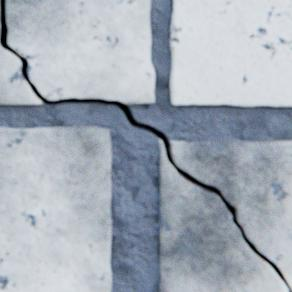brick: (0, 125, 110, 291), (169, 0, 291, 106)
broken_brick: (158, 139, 286, 291), (169, 139, 291, 289), (5, 0, 153, 103), (0, 46, 42, 103)
crack: (0, 0, 291, 291)
